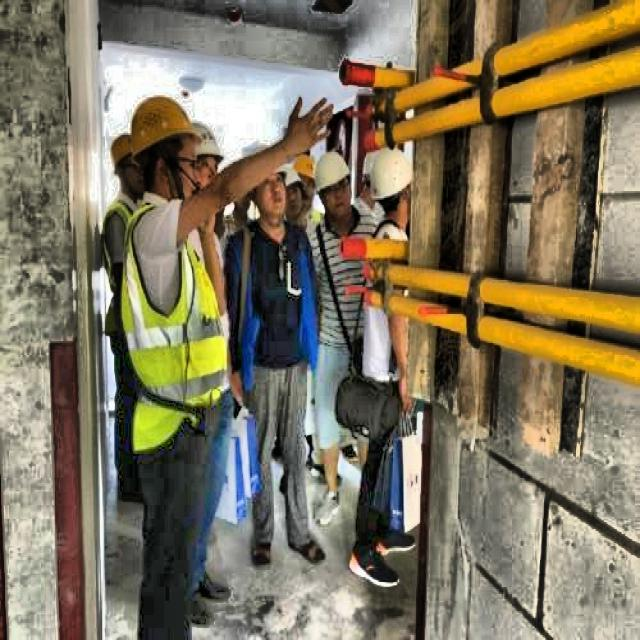helmet: (120, 87, 215, 212), (357, 145, 415, 224), (107, 118, 155, 203), (184, 120, 227, 213), (312, 147, 354, 217), (294, 138, 320, 214), (276, 162, 304, 225)
